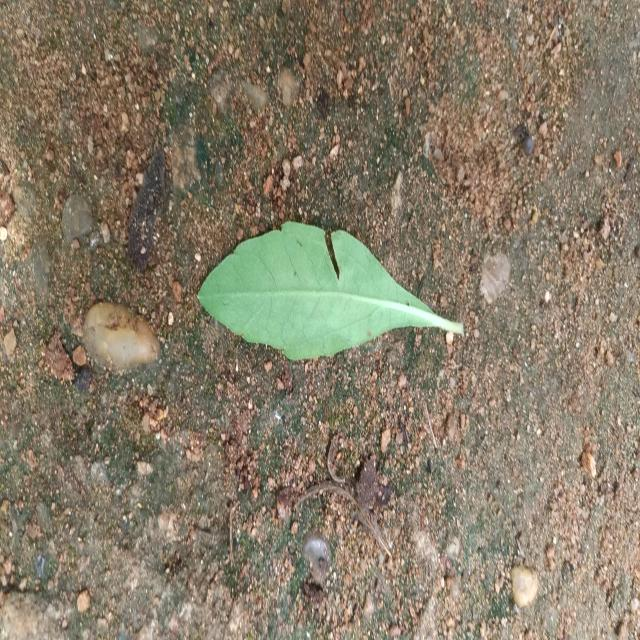bringaraja: (198, 222, 464, 360)
